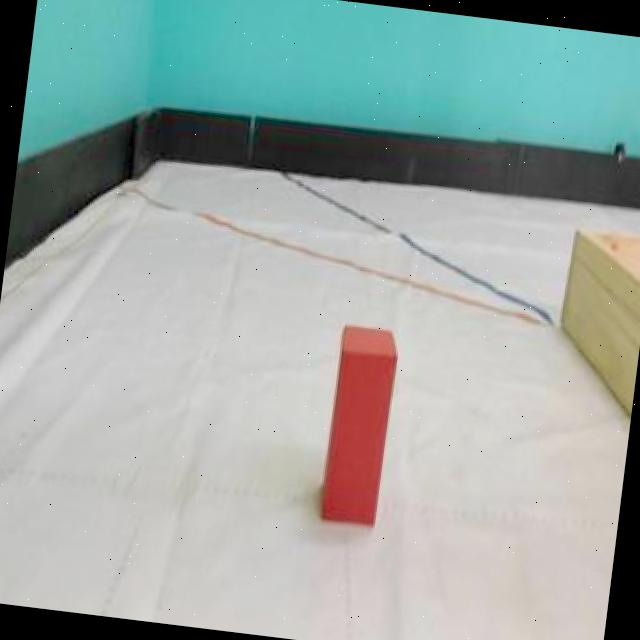redbox: (320, 324, 400, 529)
